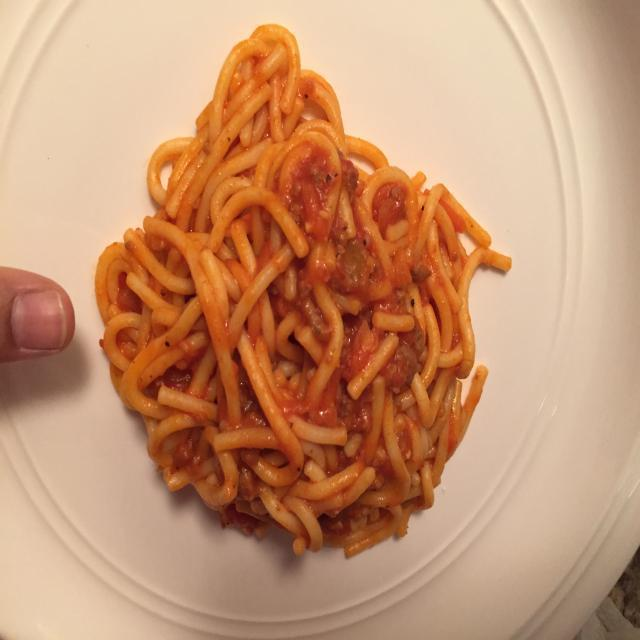Pasta: (80, 23, 518, 574)
